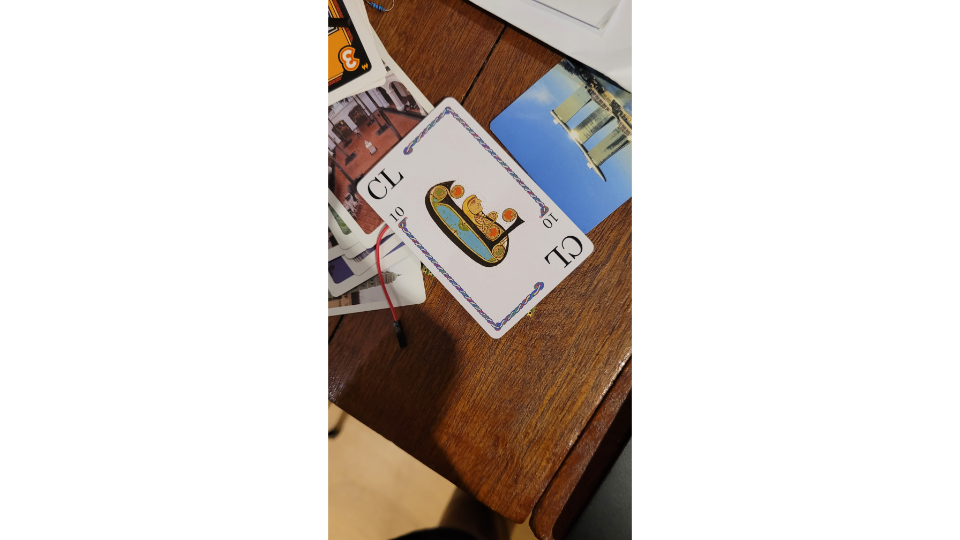CL: (355, 94, 597, 342)
